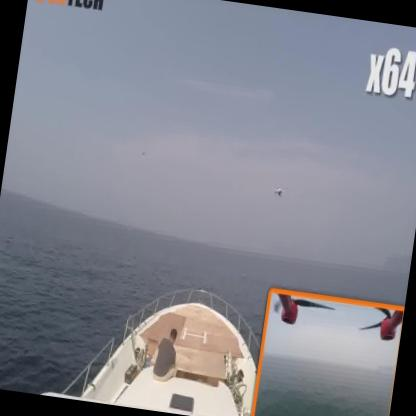drone: (271, 181, 289, 199)
